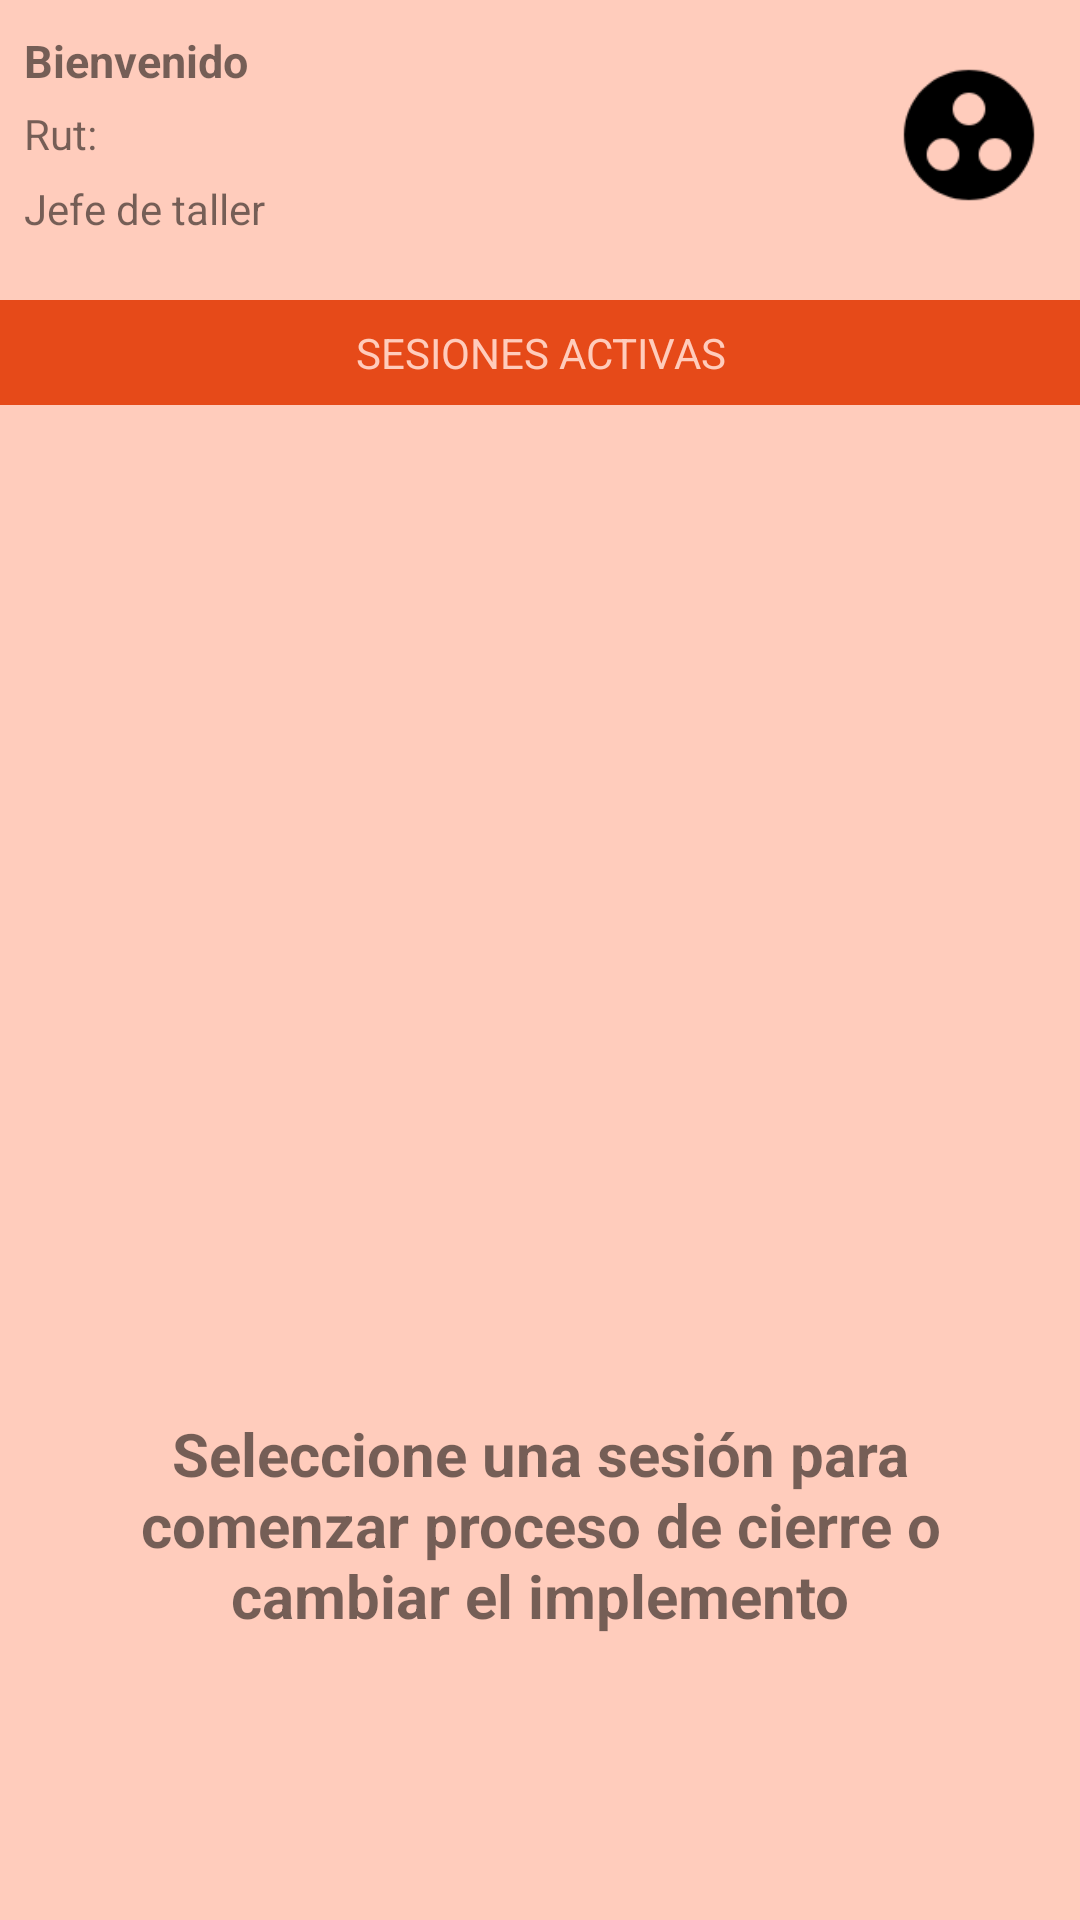

Icon click points for this 1080 x 1920 phone screenshot, format (x=x, y=y):
group work: (x=969, y=135)
